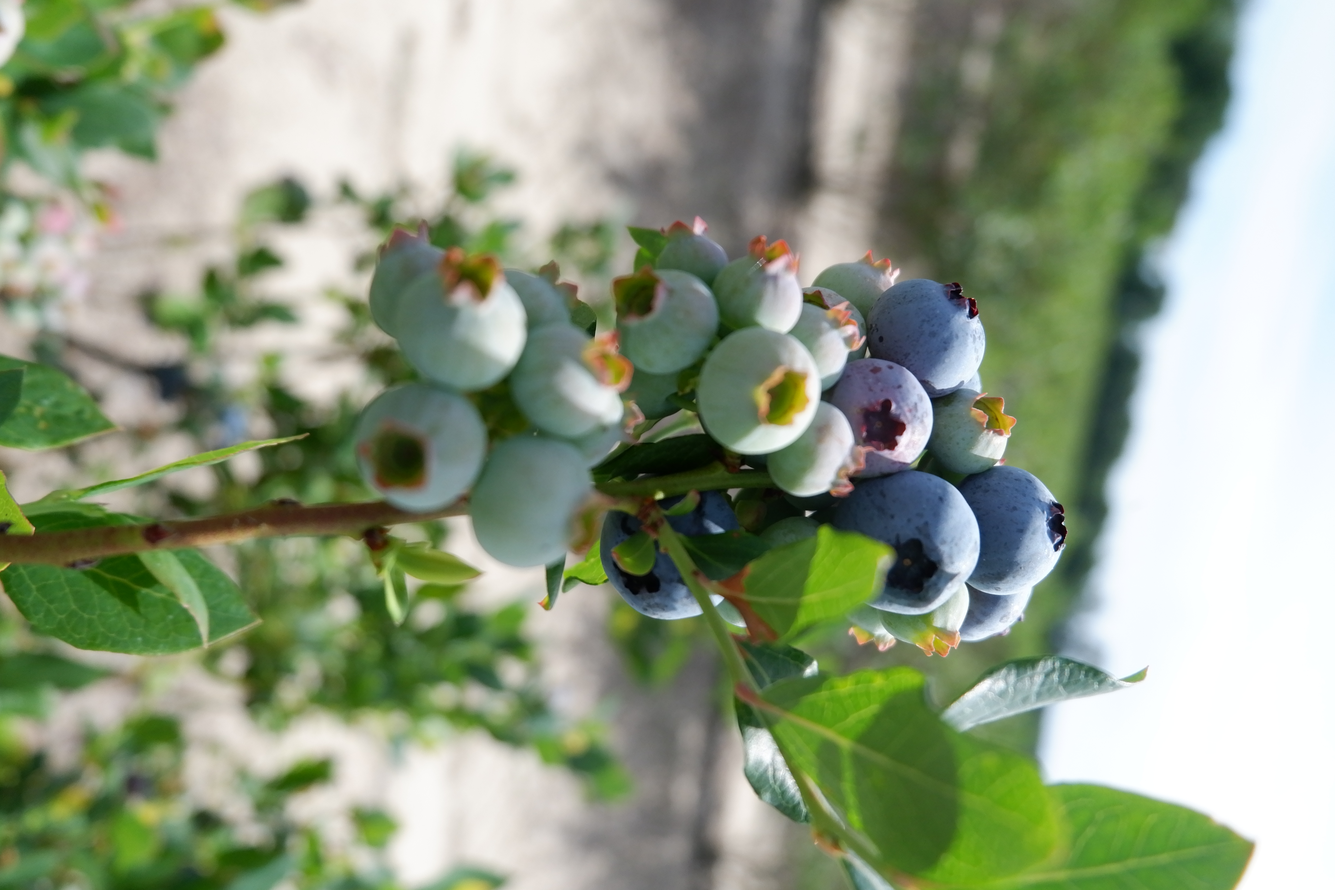Immature: (396, 253, 527, 393), (356, 386, 485, 510), (471, 436, 594, 565), (701, 331, 818, 454), (511, 326, 627, 435), (615, 269, 717, 372), (370, 217, 452, 338), (769, 403, 855, 496), (715, 239, 801, 330), (542, 396, 648, 466), (931, 392, 1015, 478), (874, 583, 970, 657), (787, 301, 862, 389), (802, 286, 869, 374), (504, 261, 579, 338), (810, 250, 898, 314), (659, 219, 724, 281), (622, 368, 697, 419), (843, 605, 896, 652)
Mature: (825, 475, 980, 611), (599, 490, 742, 621), (870, 281, 982, 395), (963, 468, 1063, 592), (829, 360, 932, 473), (960, 583, 1027, 640), (945, 372, 982, 398)
